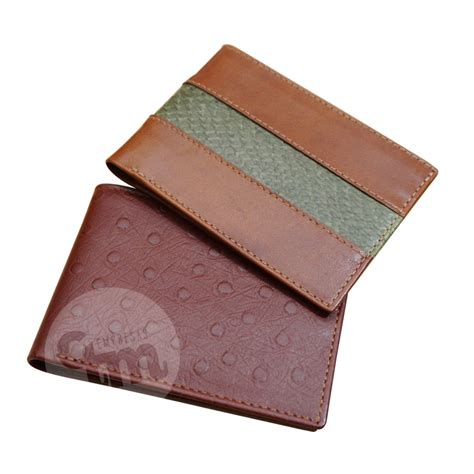cuero: (27, 44, 438, 429)
